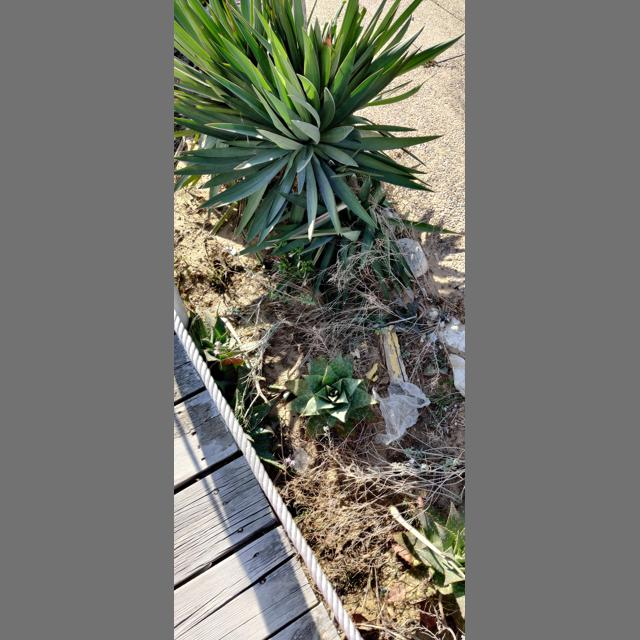litter: (373, 376, 431, 445), (372, 297, 418, 328), (286, 446, 314, 471), (406, 287, 430, 315), (435, 253, 439, 260)
